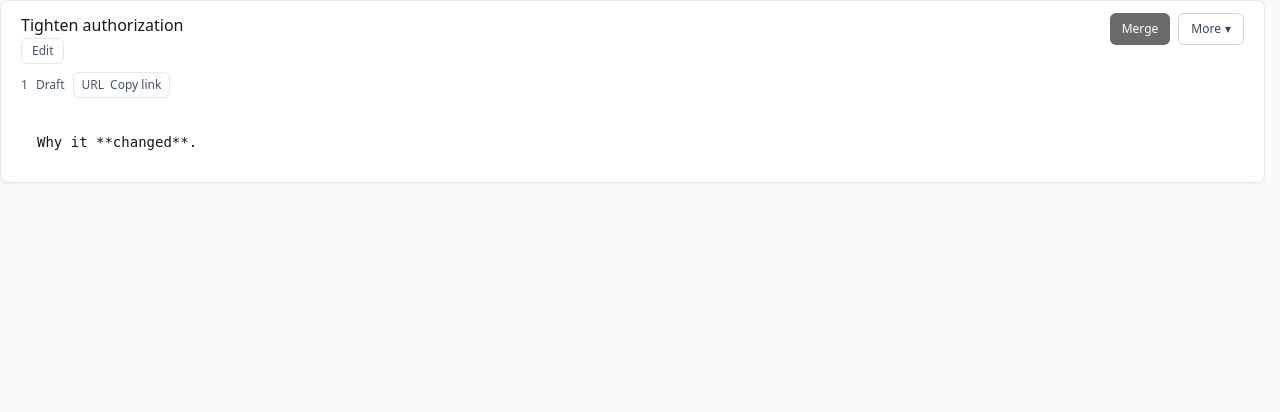
Test case: HeaderCard title and description › saves an edited title and description
Click the button "Edit".
click(43, 51)  # box [21,38,64,64]
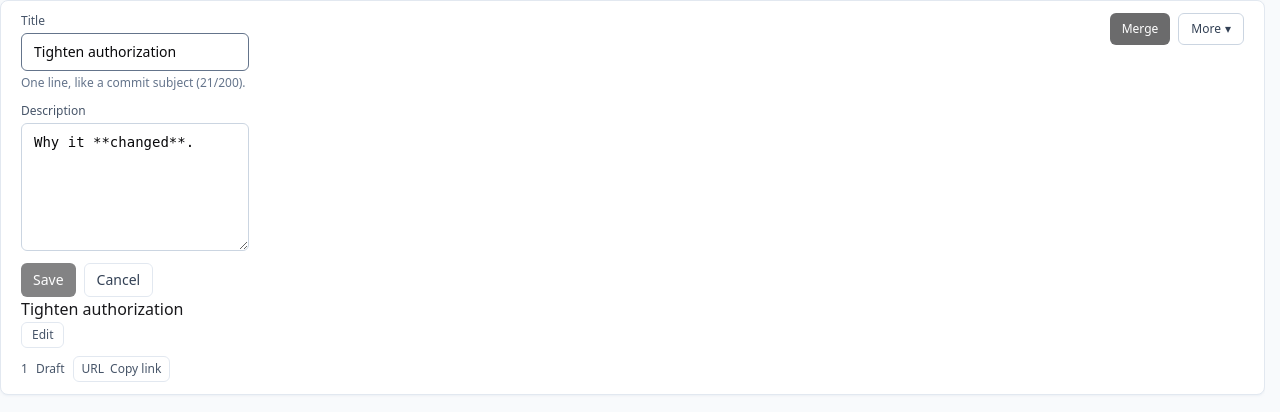
Replace the text in the field labelled "Title One line, like a commit subject (21/200)." with "  Tighten auth  " at (135, 52), box [21,33,249,71]
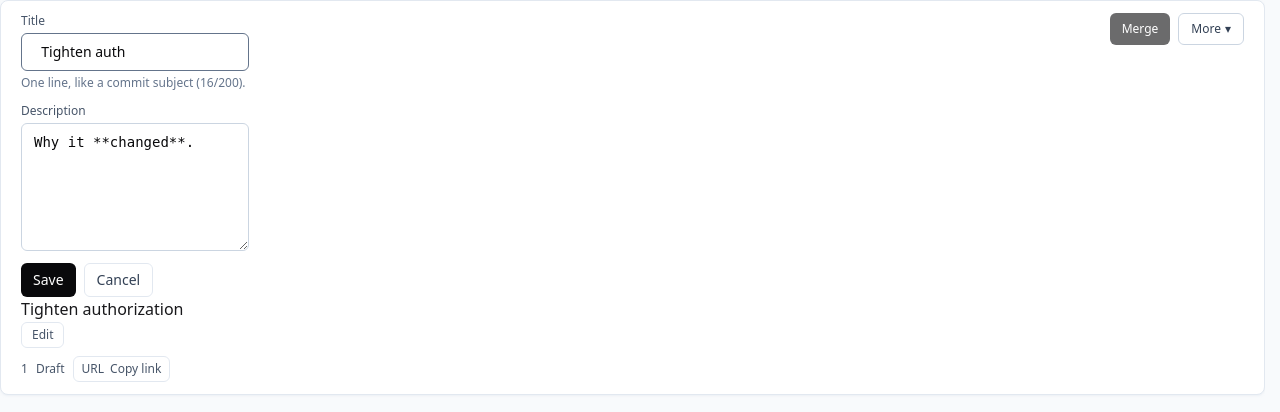
Replace the text in the text box labelled "Description" with "New body" at (135, 187), box [21,123,249,251]
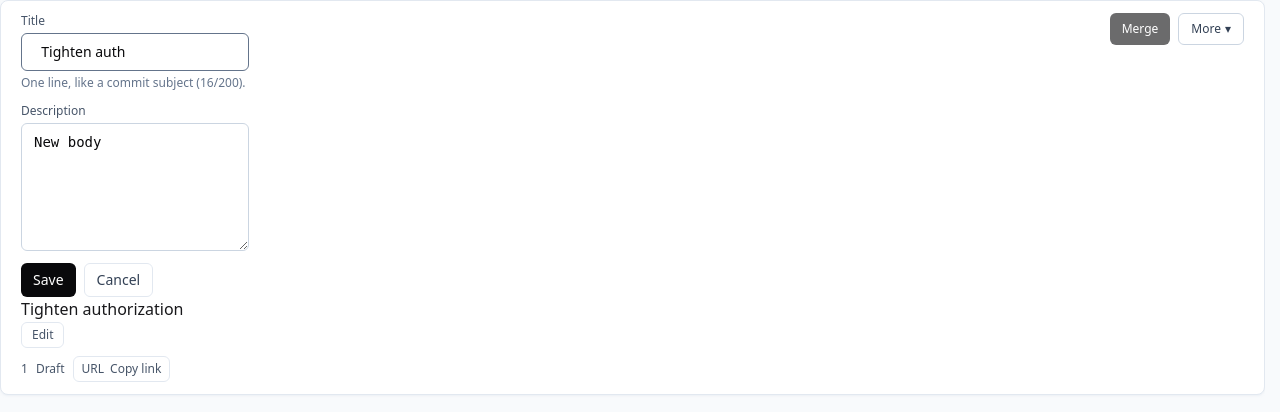
Click the button "Save".
click(48, 280)  # box [21,263,76,297]
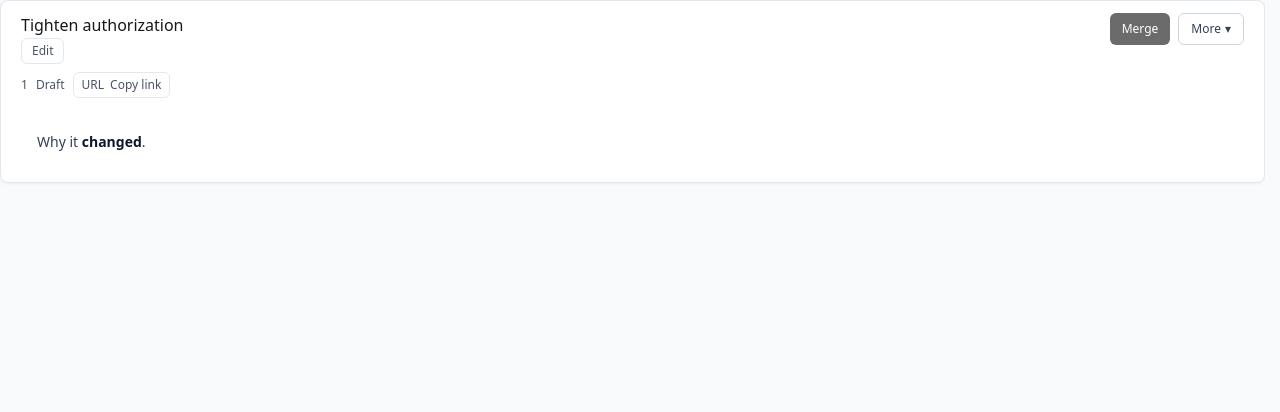
expect the label labelled "Description" is gone: met
